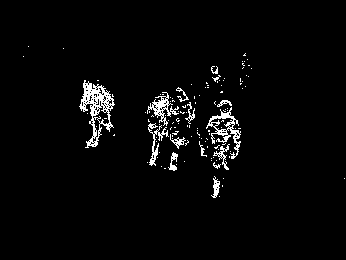person: (205, 100, 241, 199), (78, 80, 116, 149), (168, 90, 195, 171), (146, 91, 170, 167)
